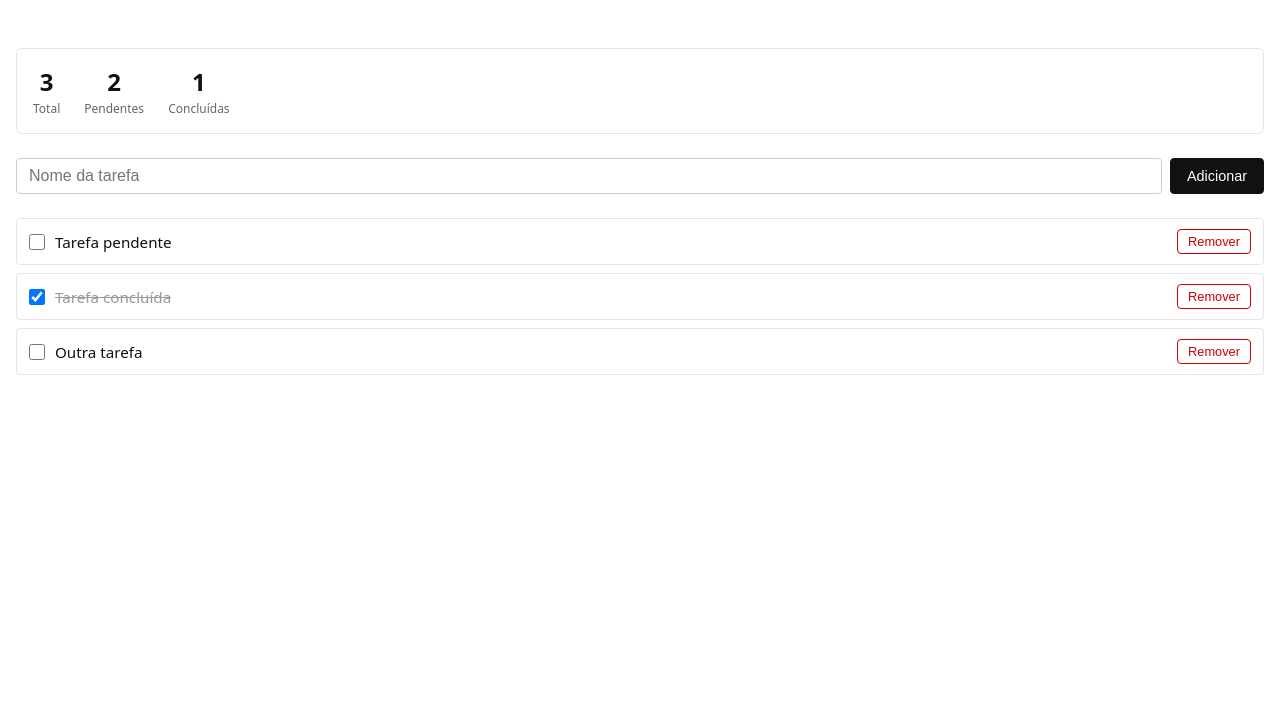
Test case: ListaTarefas › Remover tarefa — modal › remove a tarefa ao confirmar no modal
Click the button with aria-label "remover tarefa: tarefa pendente".
click(1214, 242)  # box [1177,229,1251,254]
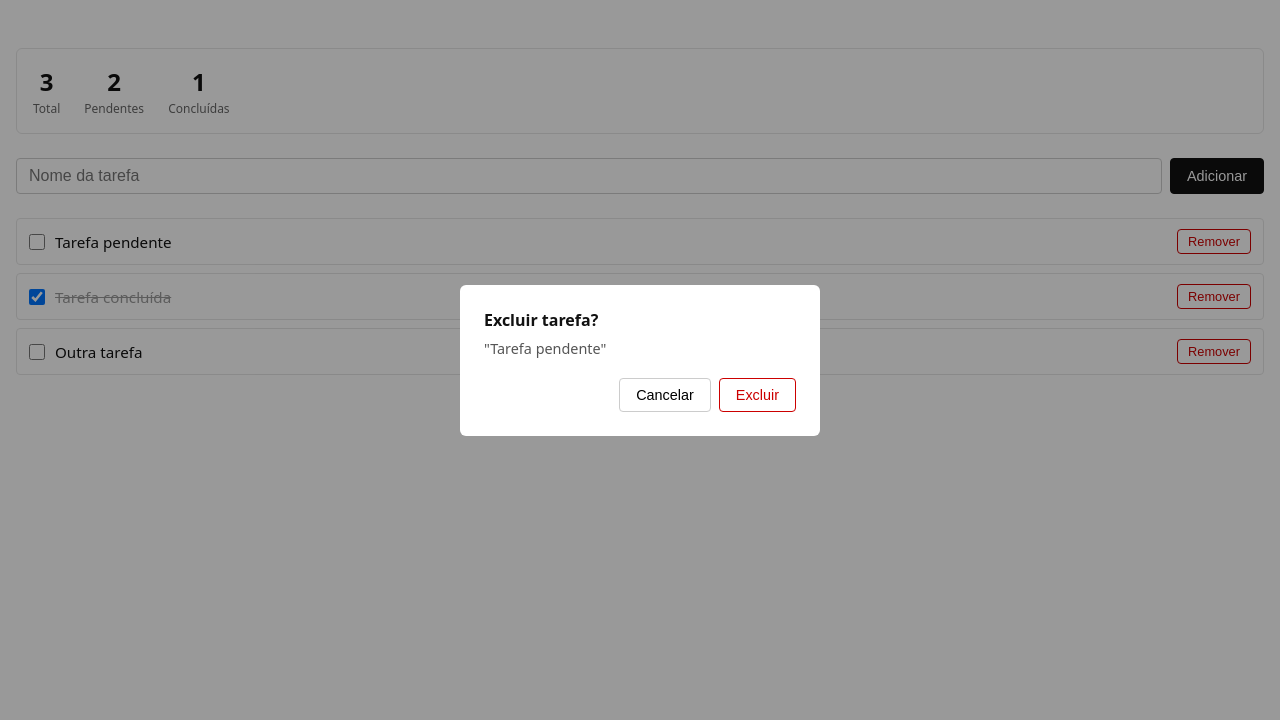
Now the dialog is shown
Click the button with aria-label "confirmar exclusão".
click(757, 394)  # box [719,378,796,412]
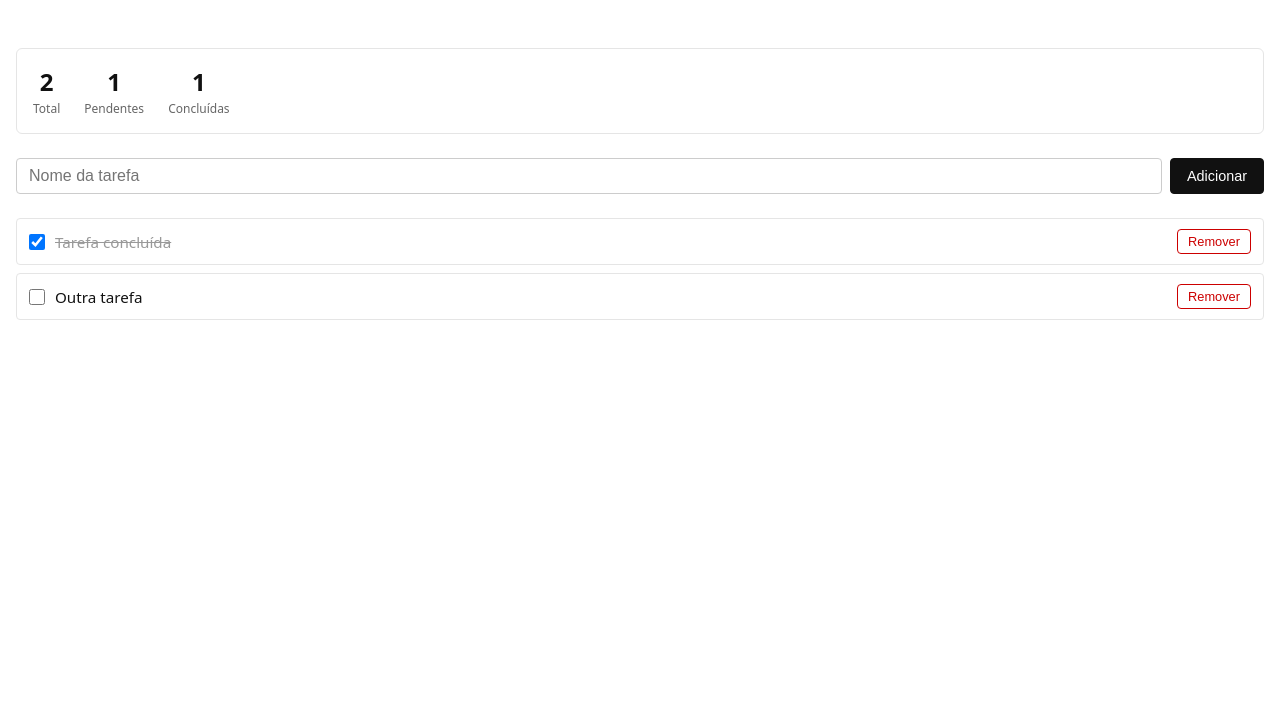
Now the text "Tarefa pendente" is gone
